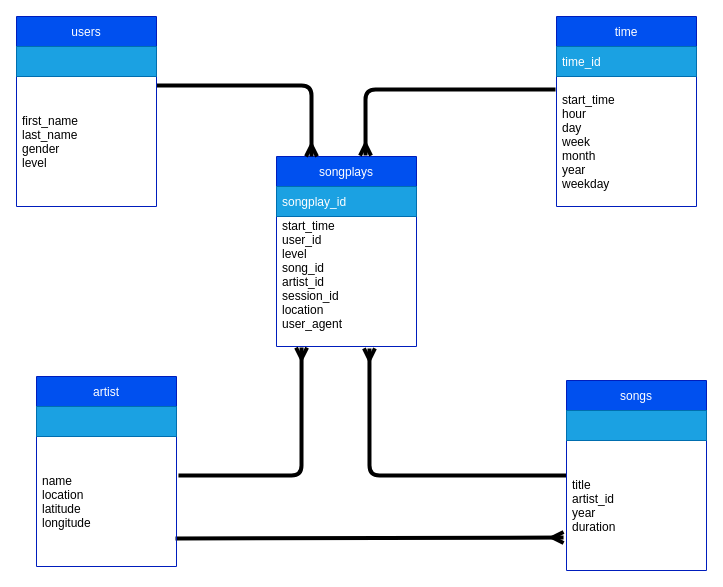
Image size: 723x587. Some labels were removed from this diagram. The shapes that lost their labels are listed below. From the top down, each one's centre as x and y in pixels, then its label:
At pixel 86 61: "user_id".
At pixel 106 421: "artist_id".
At pixel 636 425: "song_id".
